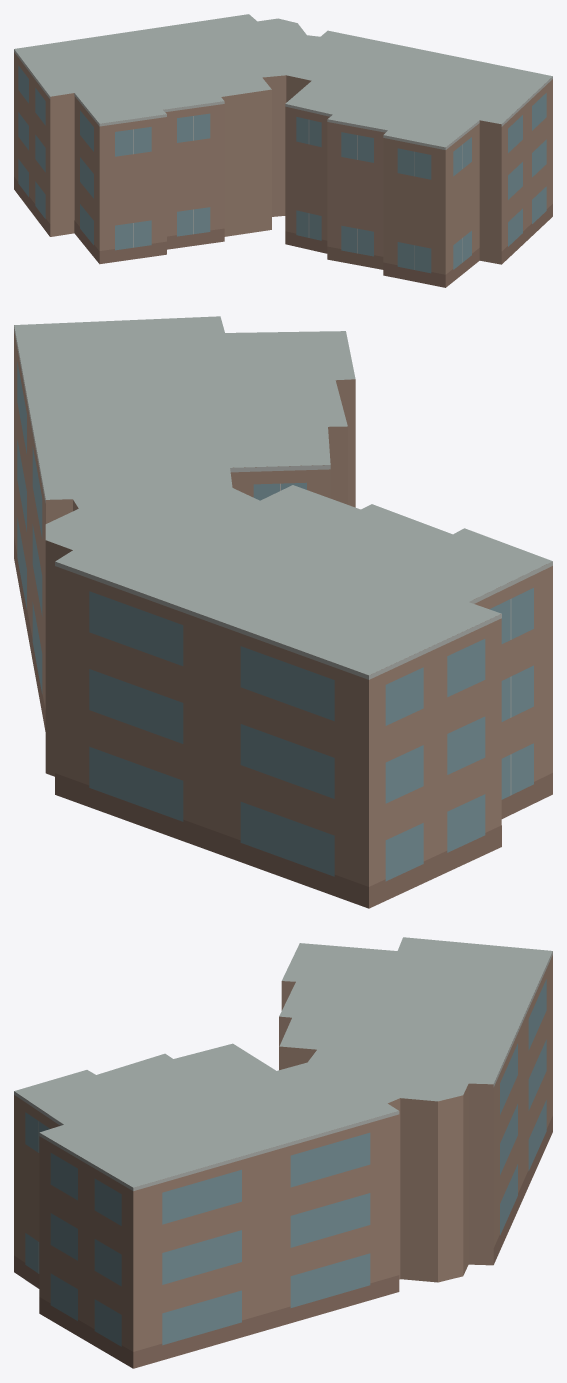
Rendered from survey-upis-32833335.glb.
The picture shows the model from 3 angles, top to bottom: view 1: azimuth 30°, elevation 25°; view 2: azimuth 150°, elevation 25°; view 3: azimuth 270°, elevation 25°; orthographic projection. The views are drawn at different scales.
Visible parts, largest first — view 1: survey-upis-32833335.tmp; view 2: survey-upis-32833335.tmp; view 3: survey-upis-32833335.tmp.
Boxes of the visible parts, x1,y1,x2,y2 form: survey-upis-32833335.tmp: (14, 14, 552, 287); survey-upis-32833335.tmp: (14, 316, 552, 908); survey-upis-32833335.tmp: (14, 937, 552, 1368).
Bounding box in the file's own units: 37.26 × 12.55 × 33.86.
